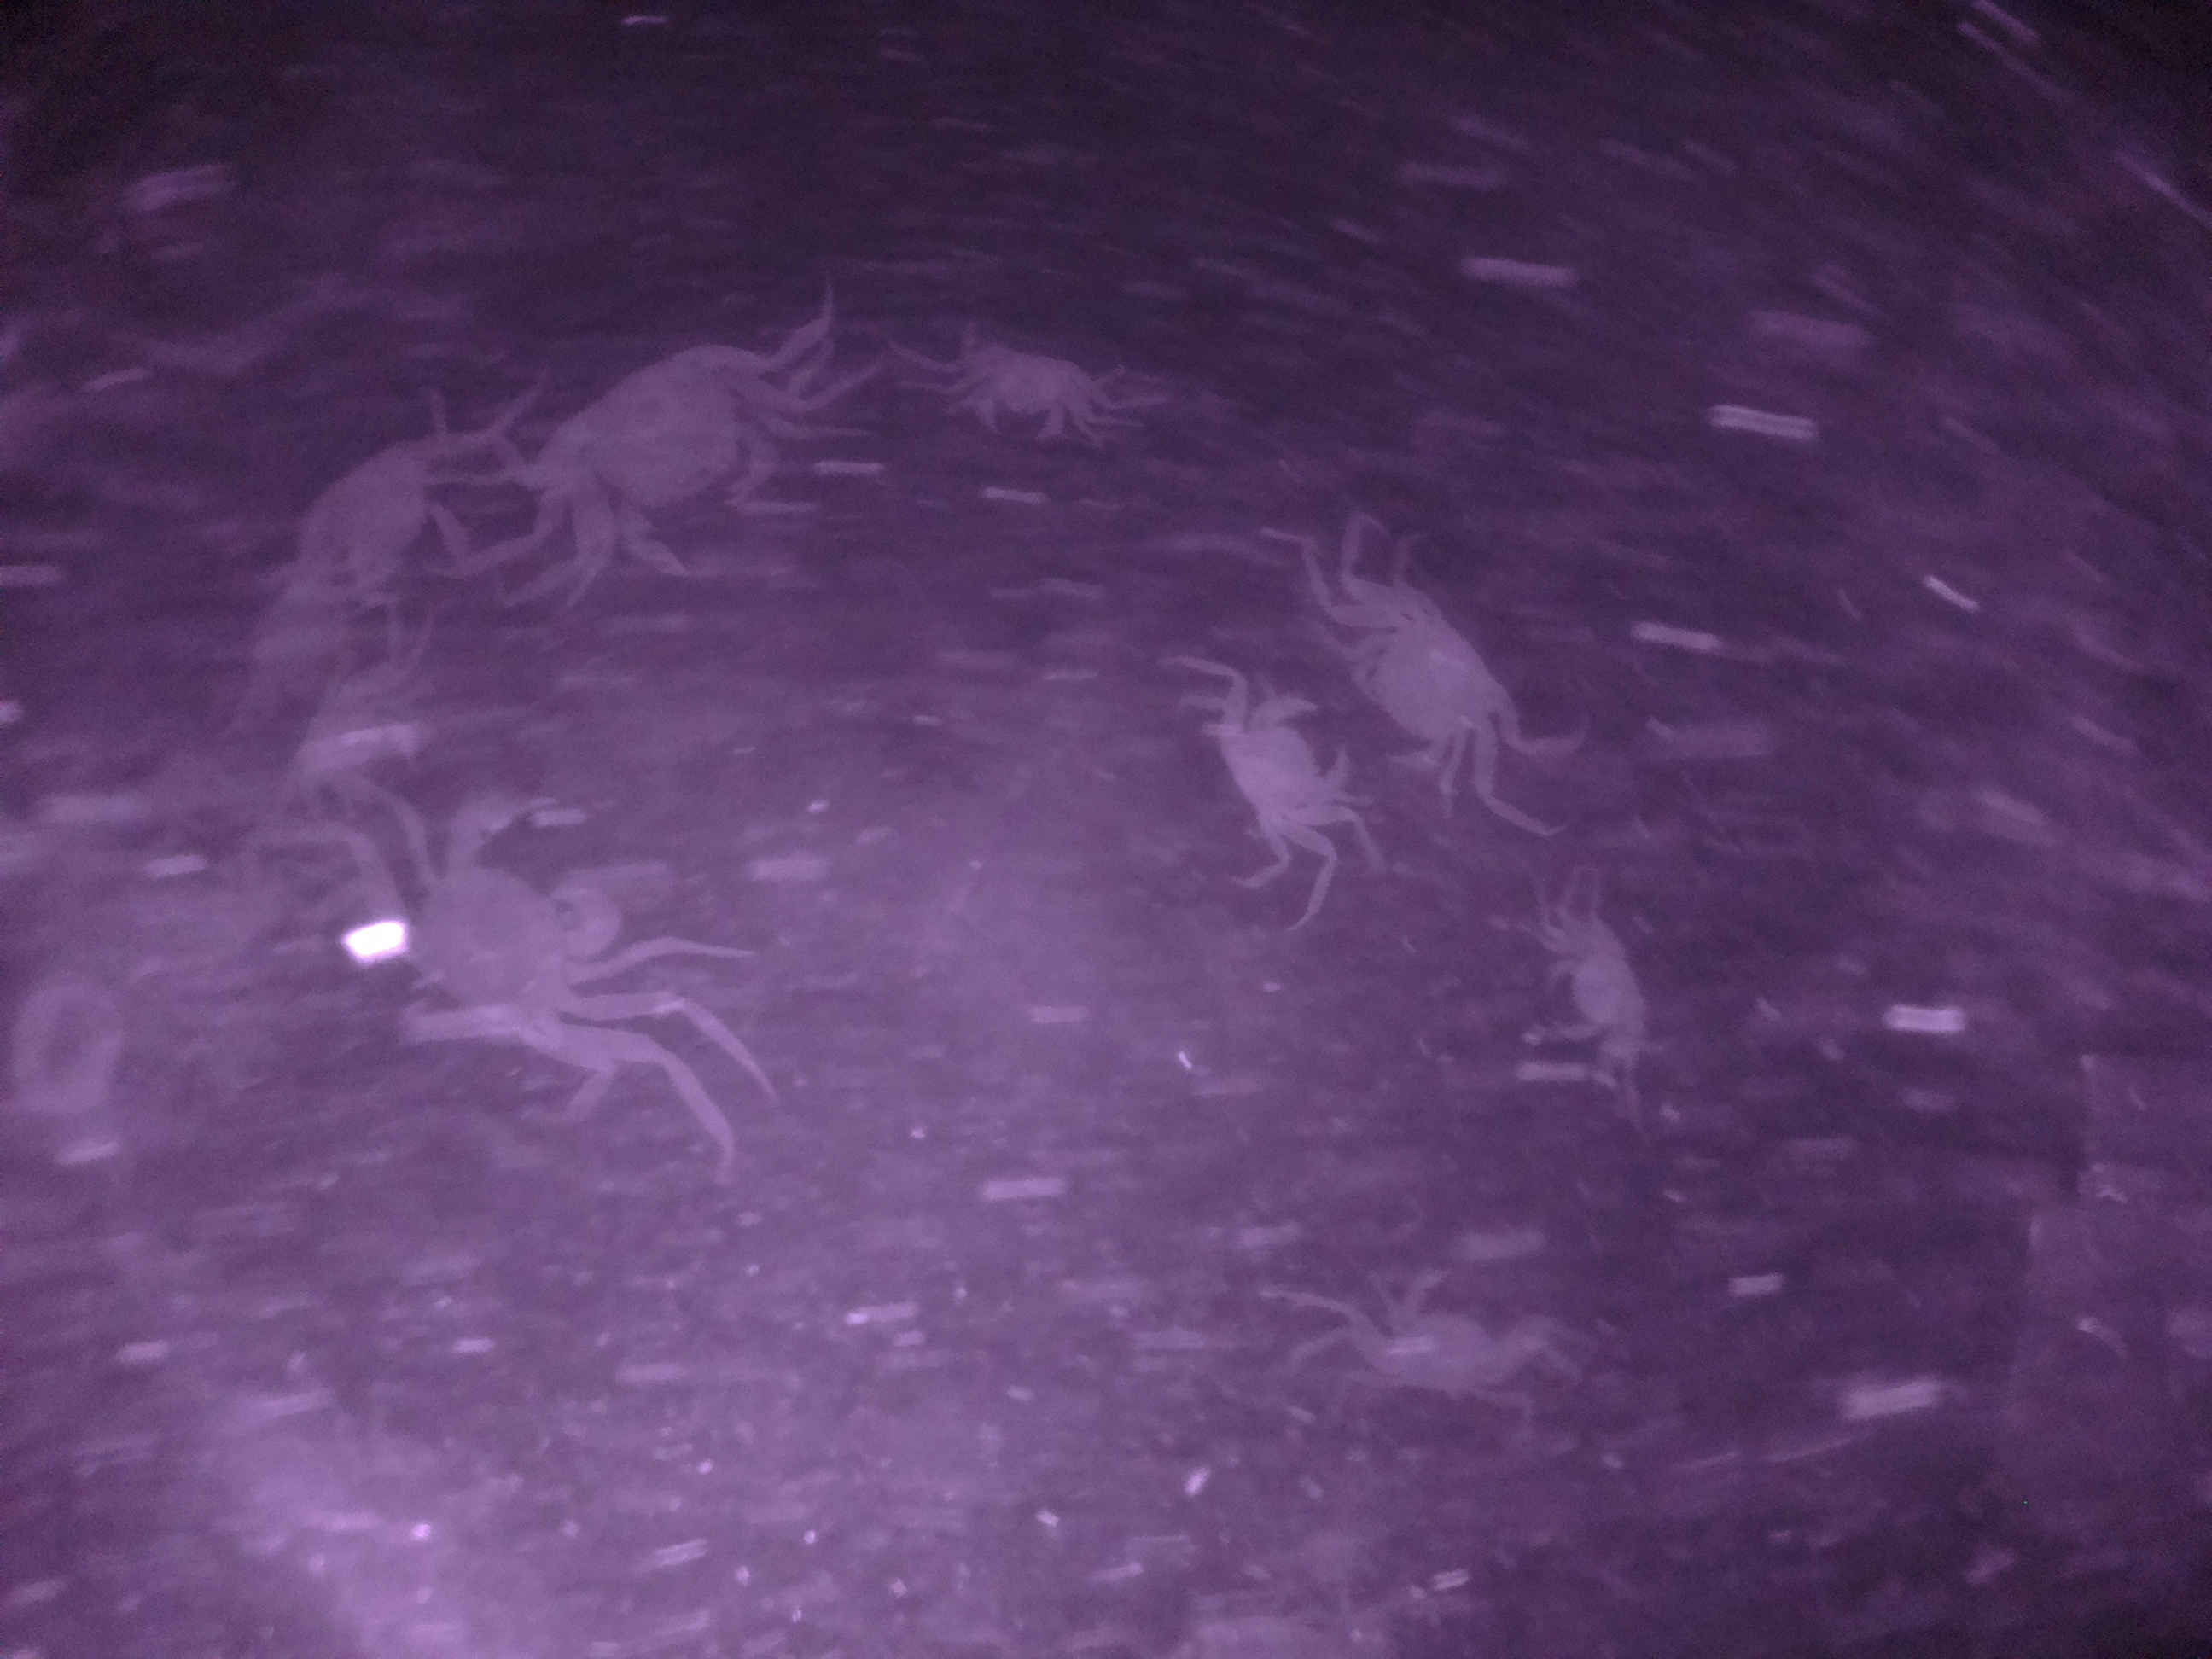Crab: (526, 319, 801, 587), (1200, 662, 1362, 870), (949, 326, 1118, 460), (1526, 922, 1670, 1060)
